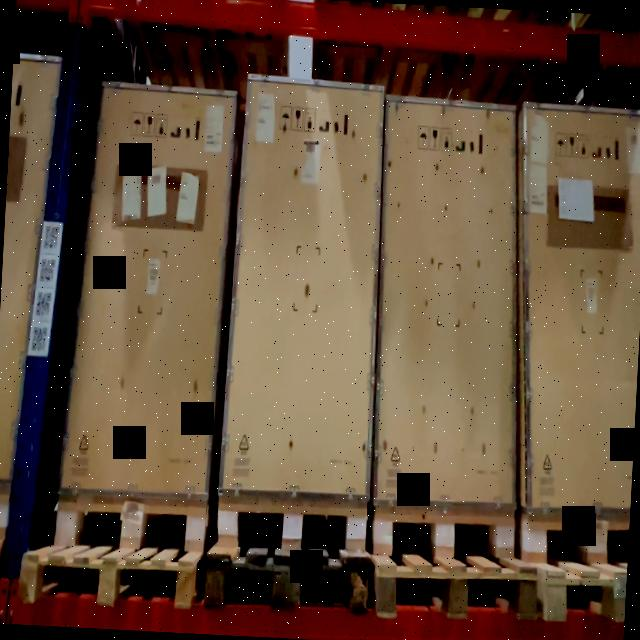box: (230, 80, 384, 492), (369, 104, 522, 507), (83, 86, 228, 492)
